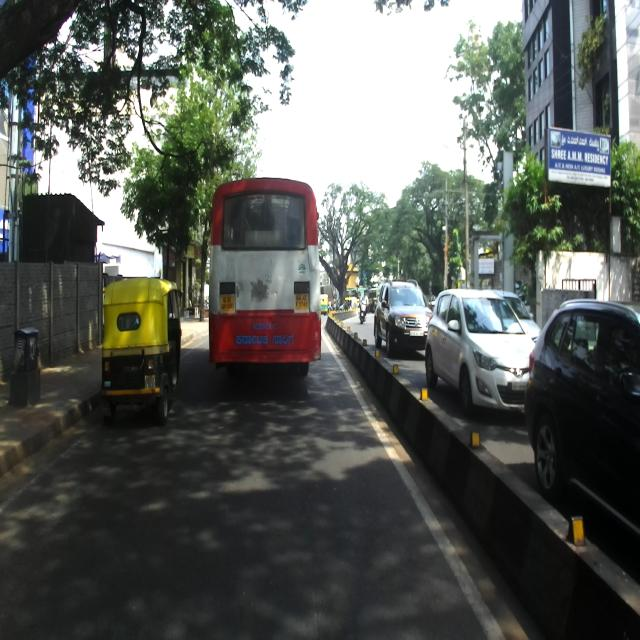auto ahead at: (103, 276, 181, 420)
bus ahead at: (207, 186, 321, 374)
